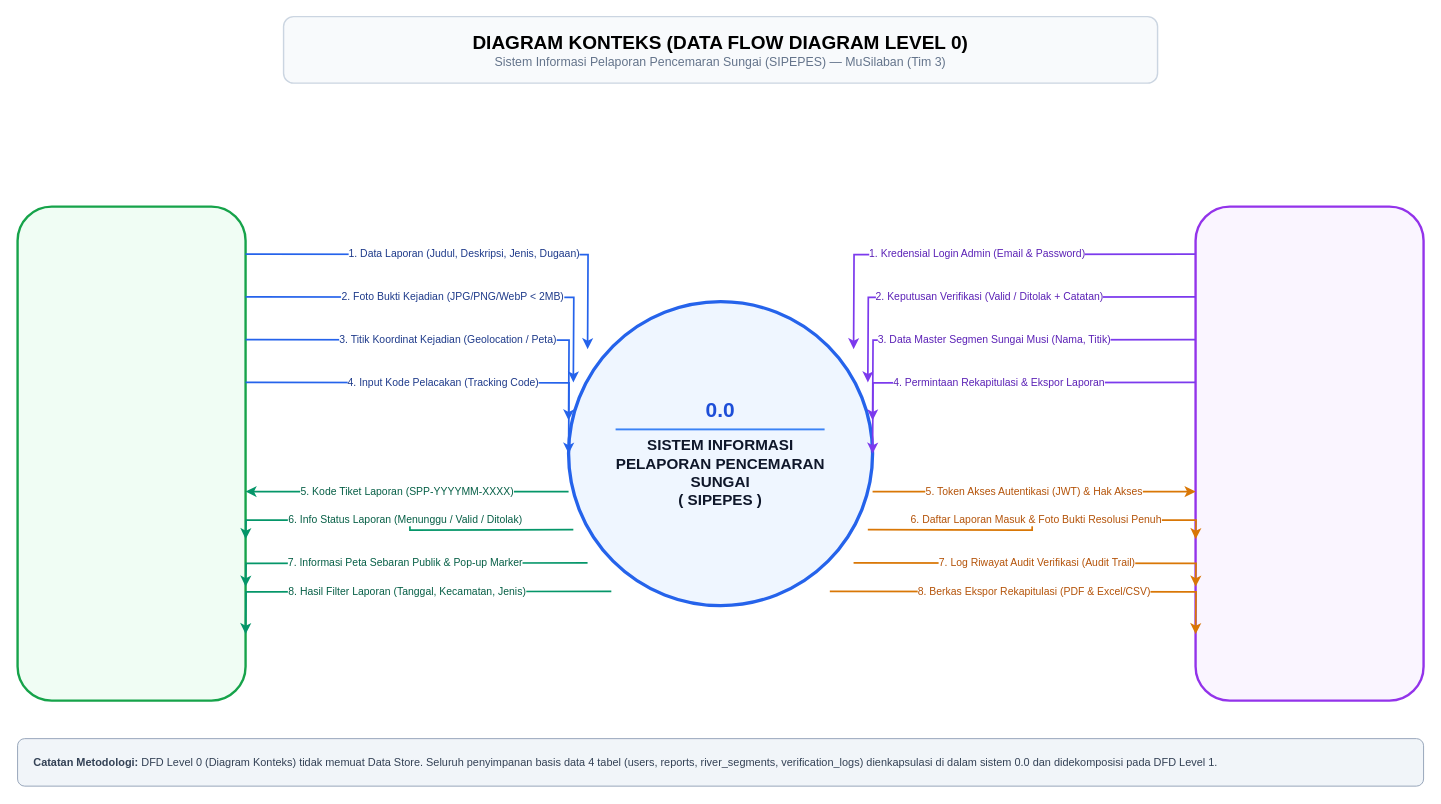
The diagram is 1441 pixels wide and 804 high, and some of its shapes have lost their labels. Each missing label, with the centre of its shape:
ADMIN KOMUNITAS (GG River Care - Divisi PKL): point (1309, 453)
WARGA / PELAPOR (Masyarakat & Volunteer Lapangan): point (131, 453)
